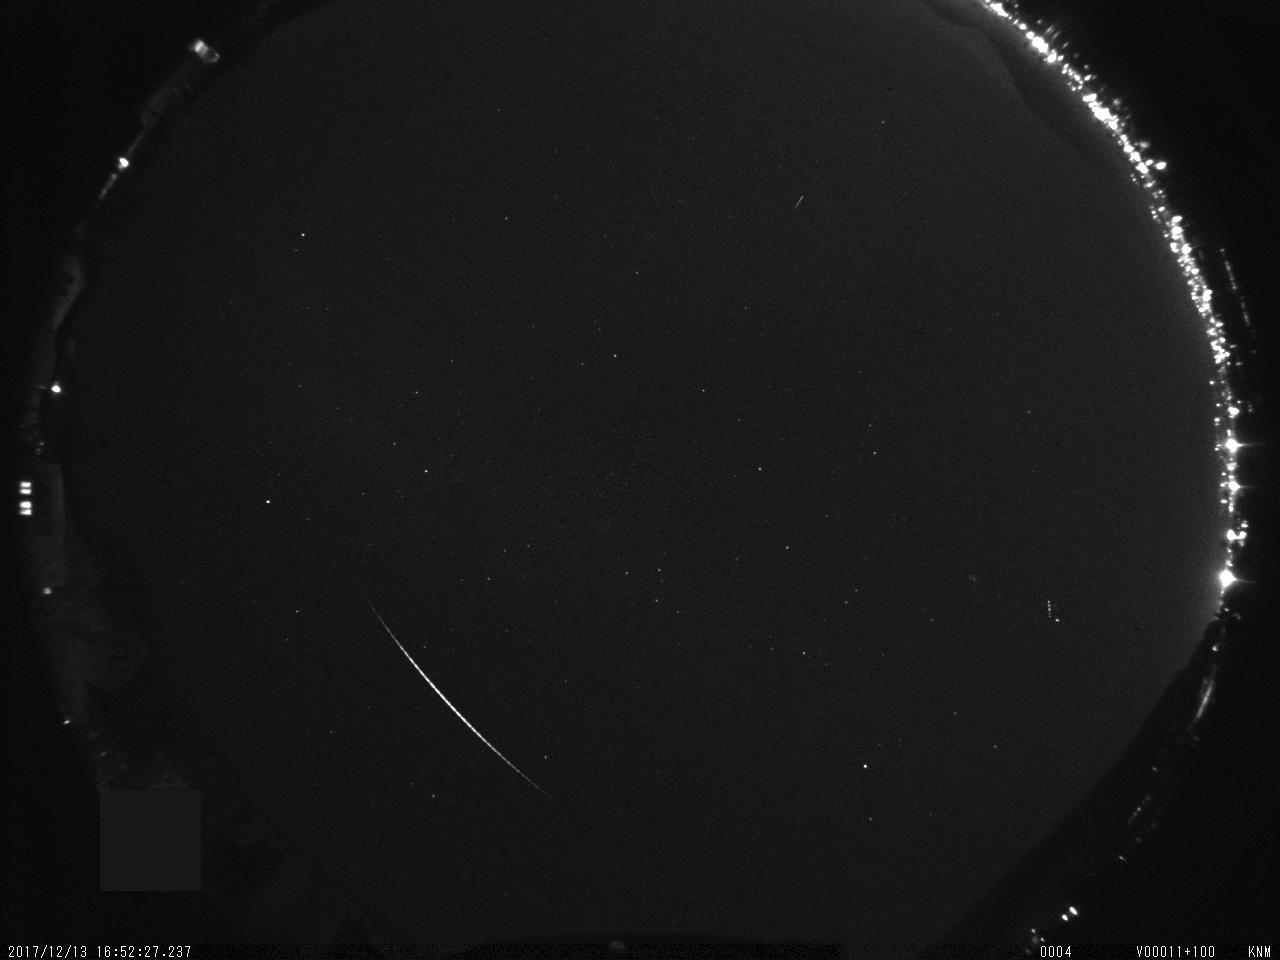meteor: (779, 189, 817, 219)
